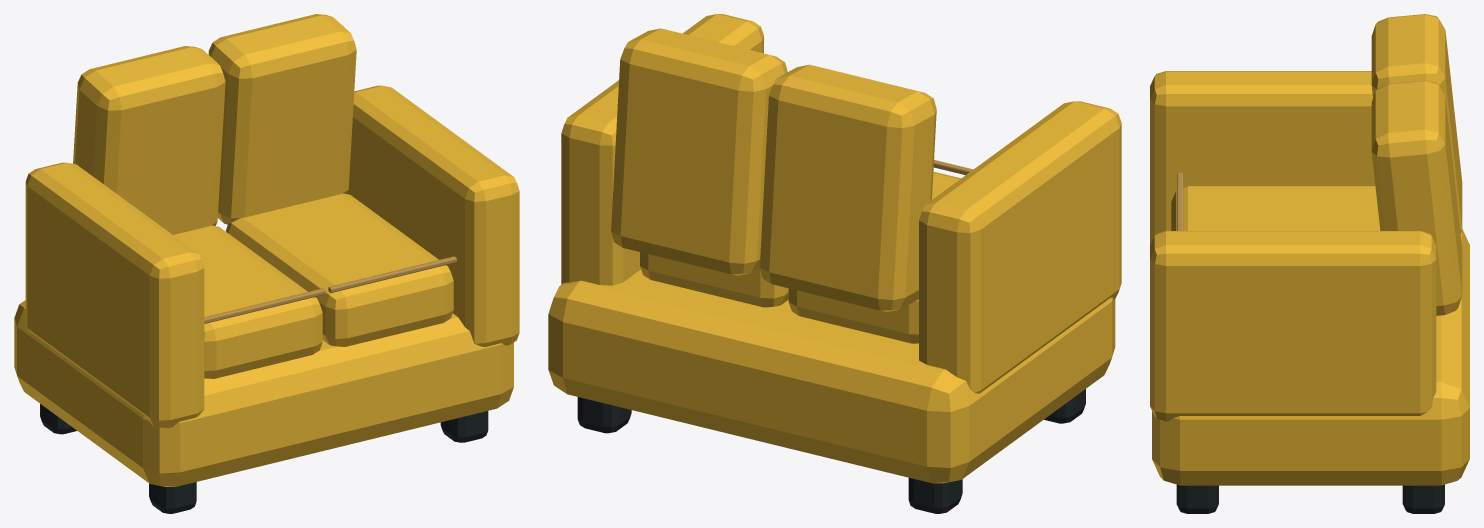
The model's file is better.glb.
3 renders of one model, left to right at view 1: azimuth 30°, elevation 25°; view 2: azimuth 150°, elevation 25°; view 3: azimuth 270°, elevation 25°, orthographic. The views are drawn at different scales.
Visible parts, largest first — view 1: Armrest, Sofa foot, Upholstery piping; view 2: Armrest, Sofa foot; view 3: Armrest, Sofa foot, Upholstery piping.
Boxes of the visible parts, x1,y1,x2,y2 form: Armrest: (14, 14, 519, 486); Sofa foot: (40, 404, 488, 513); Upholstery piping: (204, 256, 456, 323); Armrest: (548, 14, 1121, 483); Sofa foot: (577, 389, 1085, 513); Armrest: (1150, 14, 1469, 485); Sofa foot: (1176, 484, 1444, 513); Upholstery piping: (1177, 172, 1183, 230).
Bounding box in the file's own units: 1 × 0.907 × 0.724.
